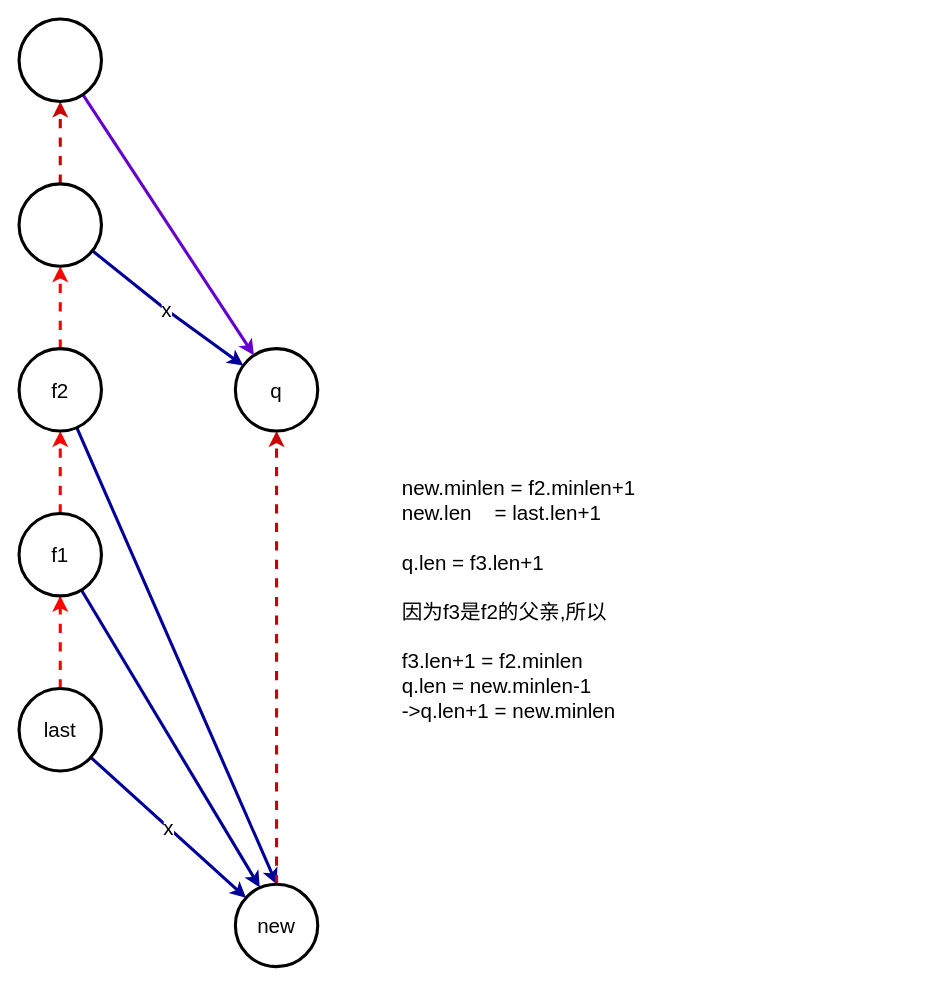
Image size: 943x986. Some labels were removed from this diagram. Here are the shapes that lost their labels. From the top down, the box of each, then its label:
(17, 17, 102, 102): f4
(17, 182, 102, 267): f3
